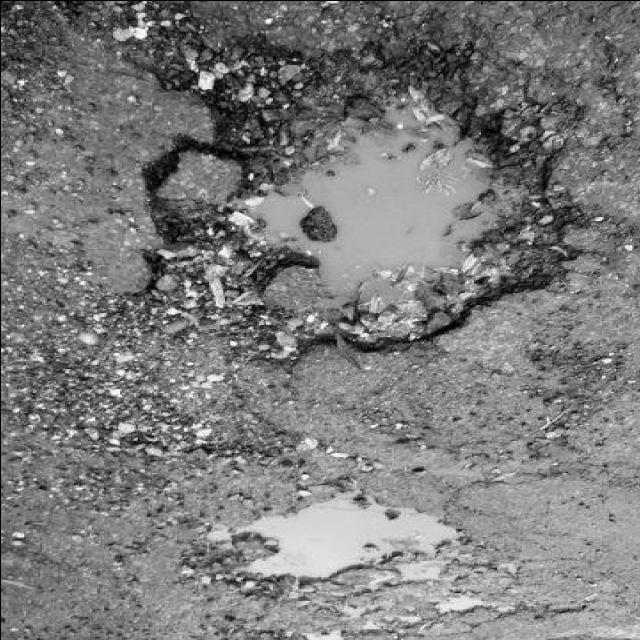lubang: (171, 41, 533, 352), (0, 0, 247, 339), (0, 332, 327, 482), (510, 0, 636, 309), (188, 553, 600, 639), (206, 489, 469, 592)
